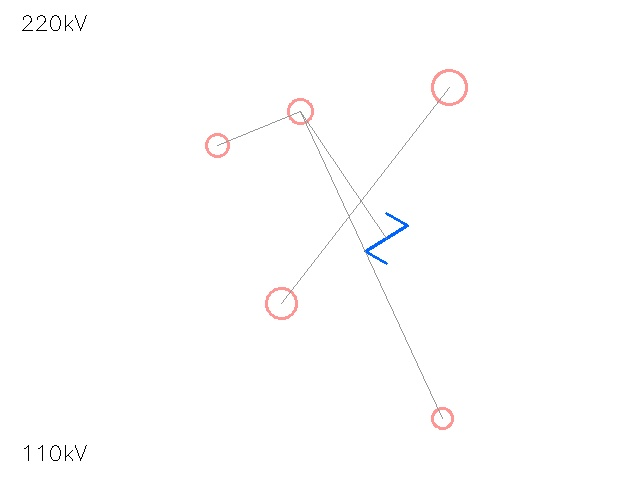circuit_breaker: (362, 214, 410, 262)
feeder_terminal: (275, 86, 325, 136)
fuse: (421, 397, 463, 439)
reactor: (415, 53, 483, 121)
surge_arrester: (250, 272, 312, 334)
voltage_transformer: (195, 123, 239, 167)
